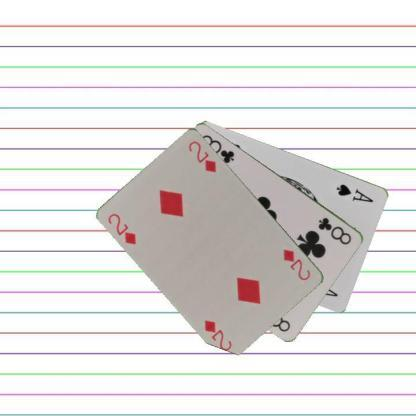2d: (280, 246, 312, 282), (106, 210, 138, 246)
8c: (315, 214, 353, 246)
As: (333, 181, 375, 203)
